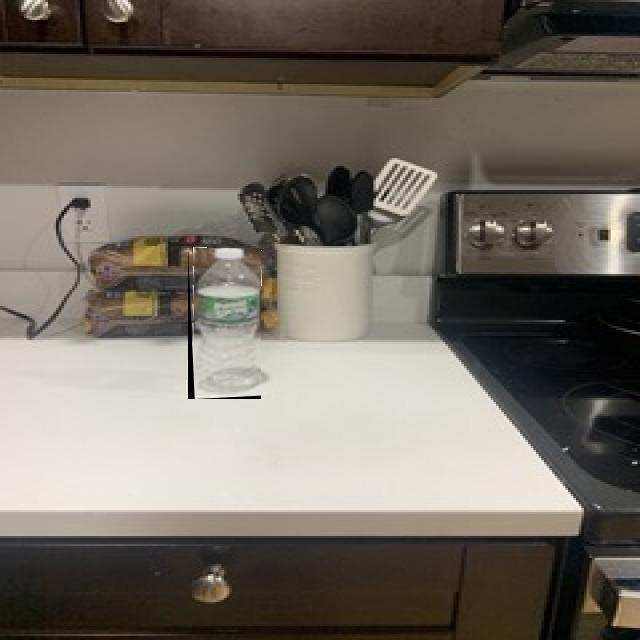water_bottle: (188, 248, 261, 399)
